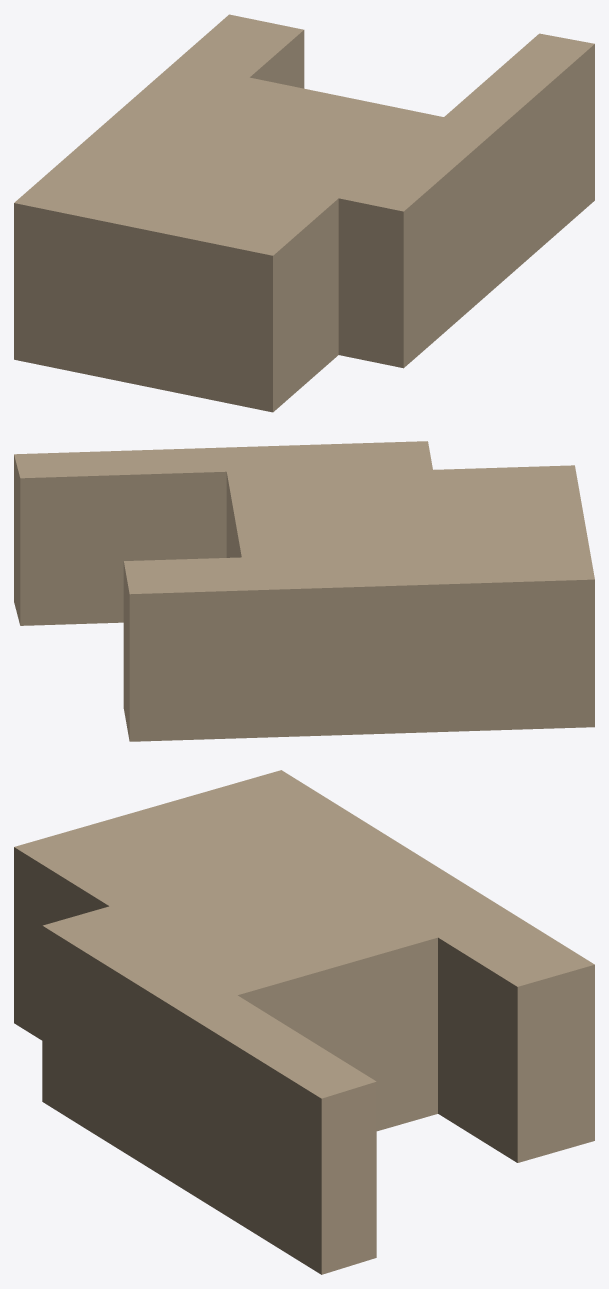
File: bld_486082980.dae
The picture shows the model from 3 angles, top to bottom: view 1: azimuth 30°, elevation 25°; view 2: azimuth 150°, elevation 25°; view 3: azimuth 270°, elevation 25°; orthographic projection. The views are drawn at different scales.
Parts seen in each view (by area): view 1: bld_486082980; view 2: bld_486082980; view 3: bld_486082980.
Boxes of the visible parts, x1,y1,x2,y2 form: bld_486082980: [14, 14, 594, 412]; bld_486082980: [14, 441, 594, 741]; bld_486082980: [14, 770, 594, 1274].
Size of the model in its own units: 47.99 by 35.85 by 12.
